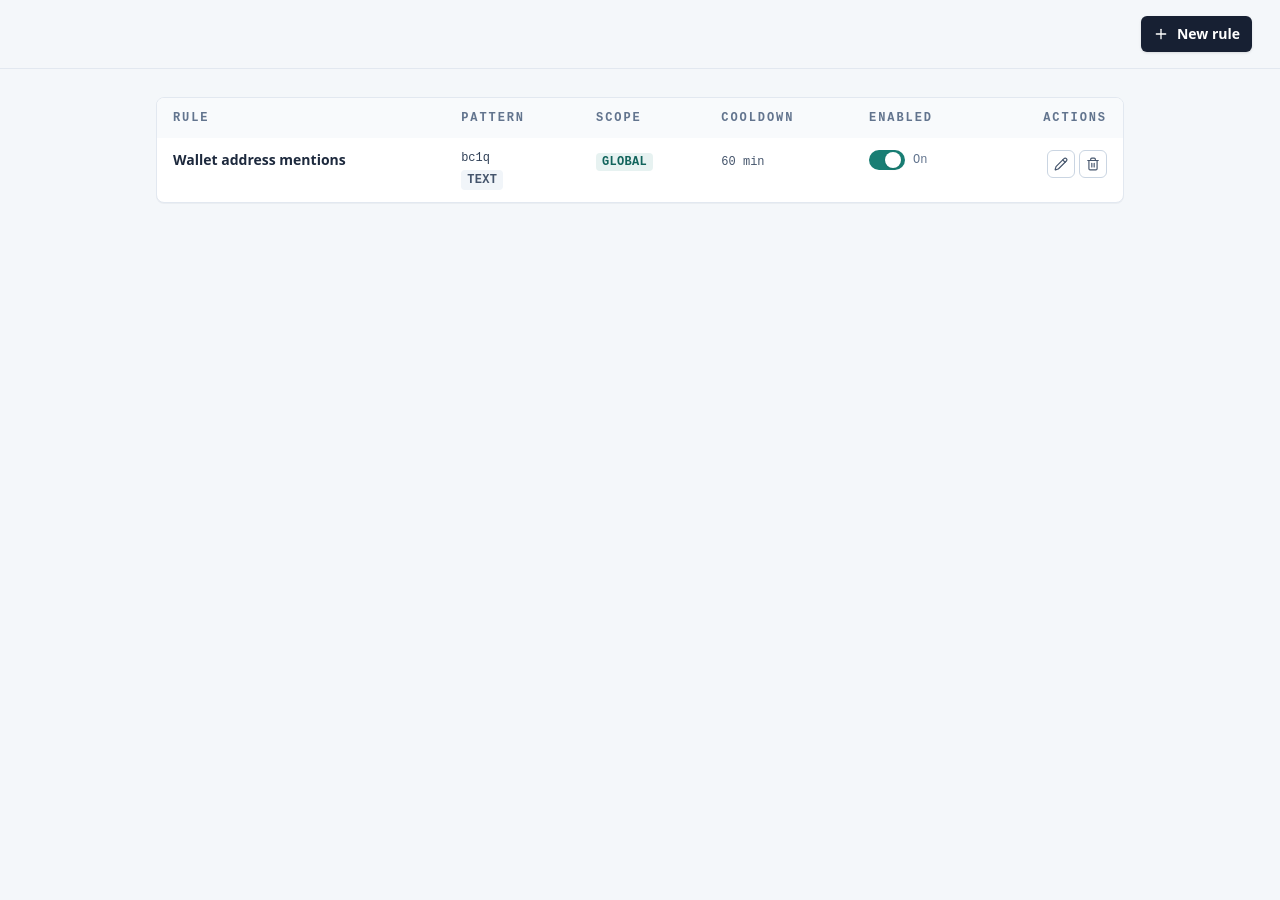
Scenario: WatchlistView › edits an existing rule and sends its id to the upsert RPC
Expected: the text "Wallet address mentions" is shown, [173,150,346,169]
Click the button named "Edit Wallet address mentions" at (1061, 164), box [1047,150,1075,178]
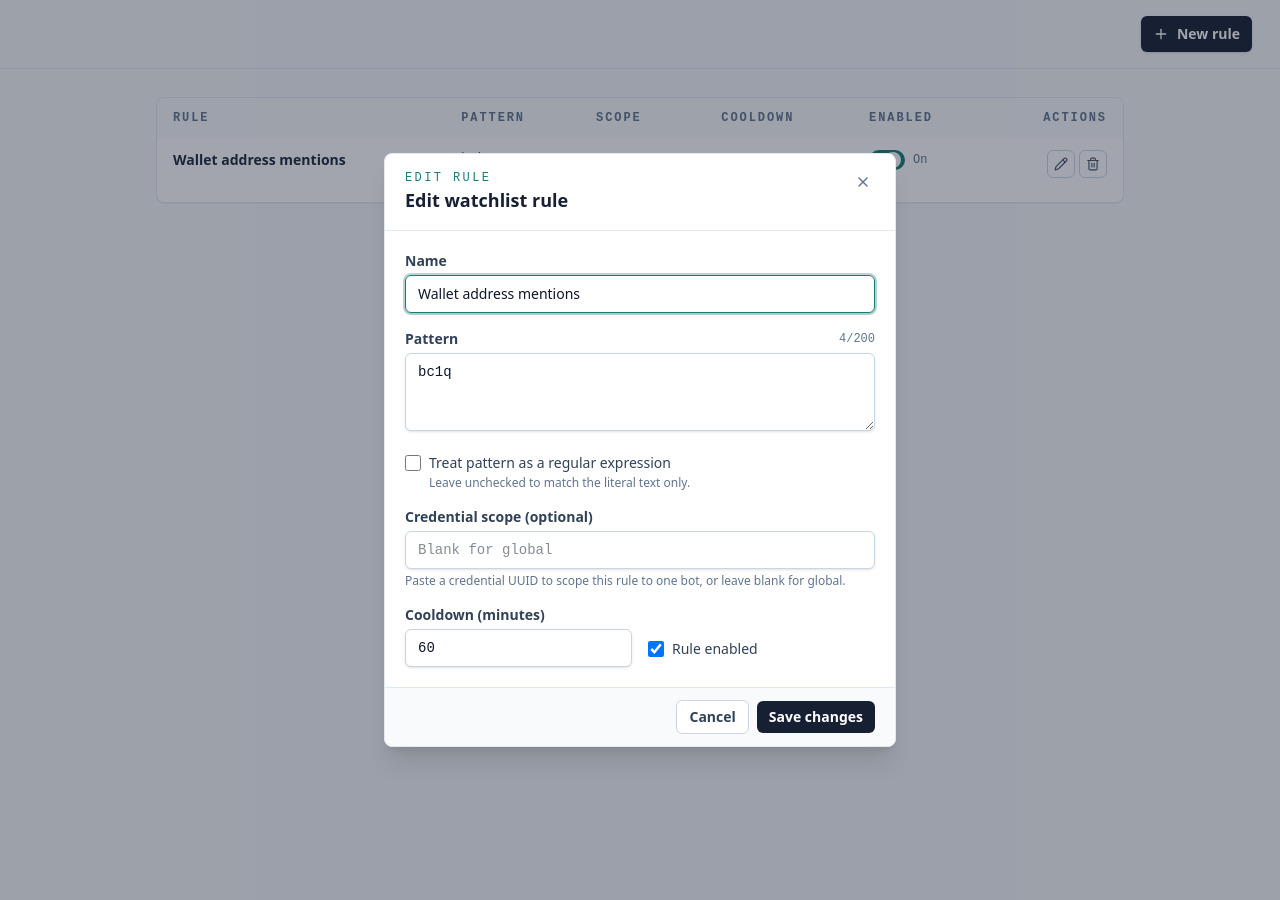
Type "Renamed wallet rule" into the field labelled "Name" at (640, 294), box [405,275,875,313]
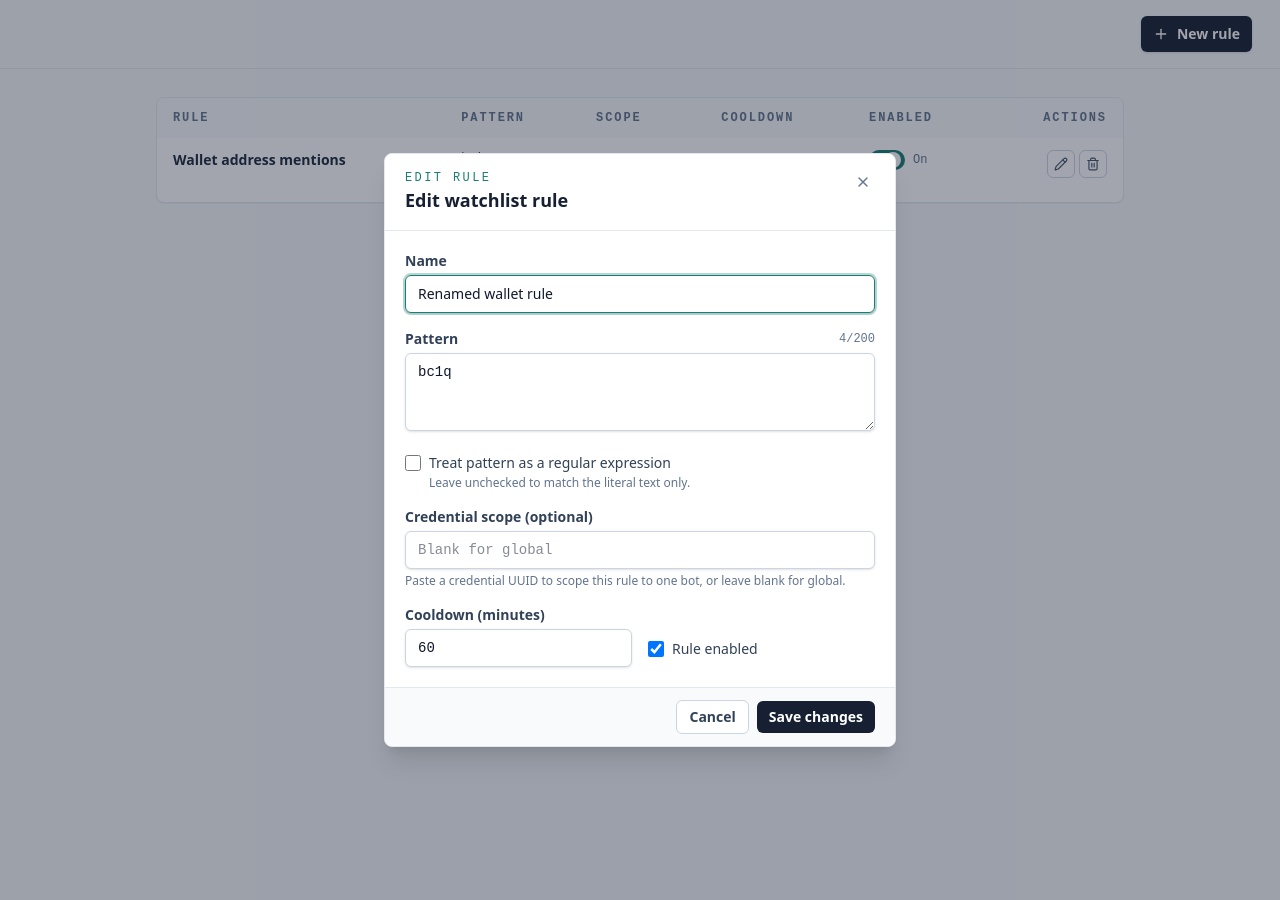
Click the button "Save changes" at (816, 717), box [757,701,875,733]
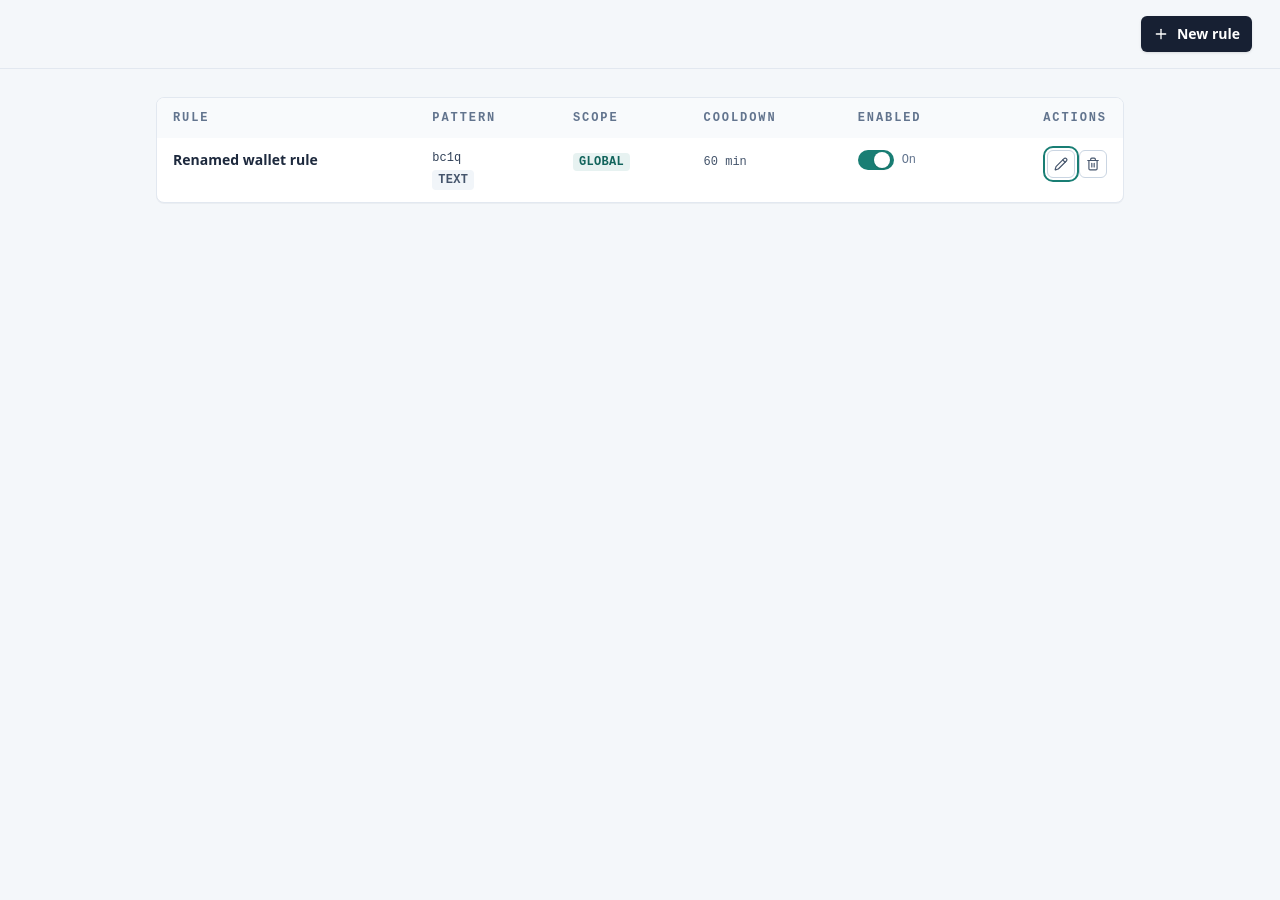
Now the dialog is gone
Now the text "Renamed wallet rule" is shown, box [173,150,318,169]
Now the text "Wallet address mentions" is gone
